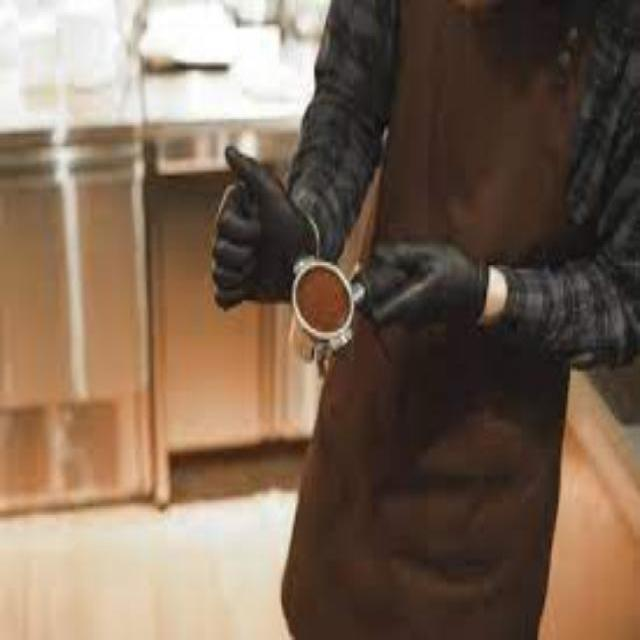gloved_hand: (212, 143, 294, 315), (361, 241, 481, 339)
